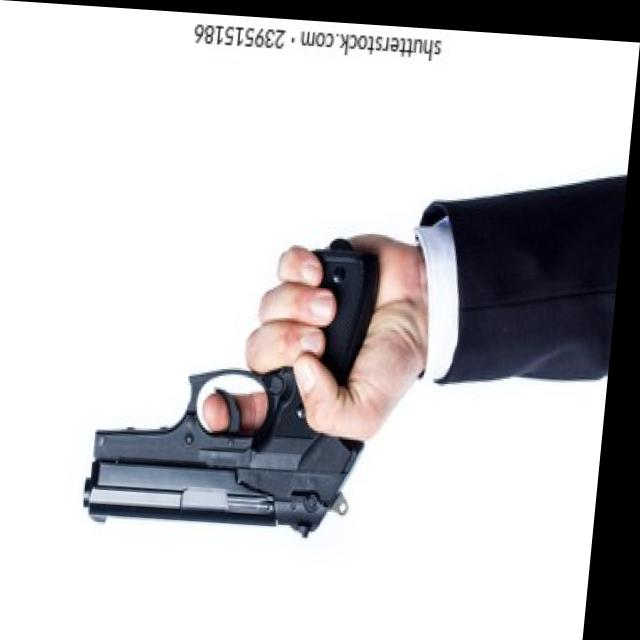handgun: (93, 228, 391, 538)
